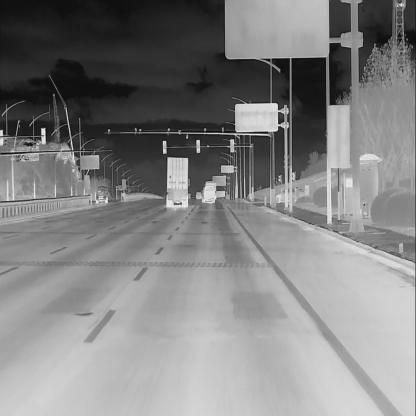car: (202, 185, 216, 204), (195, 190, 202, 200)
truck: (164, 156, 193, 209), (95, 184, 109, 206), (204, 180, 217, 201)
